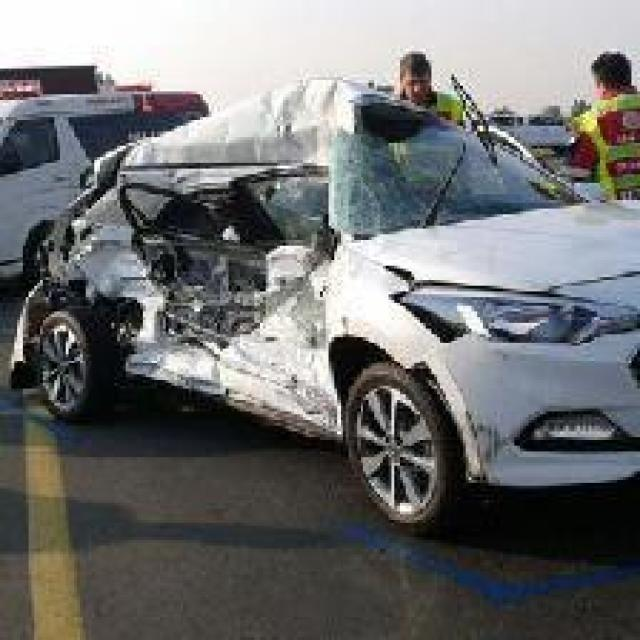damaged: (11, 83, 508, 483)
